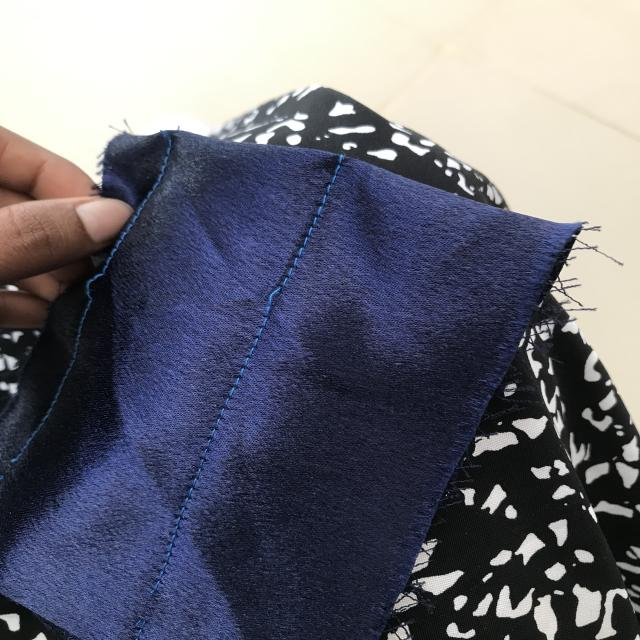skip: (253, 282, 303, 319), (80, 267, 116, 310)
